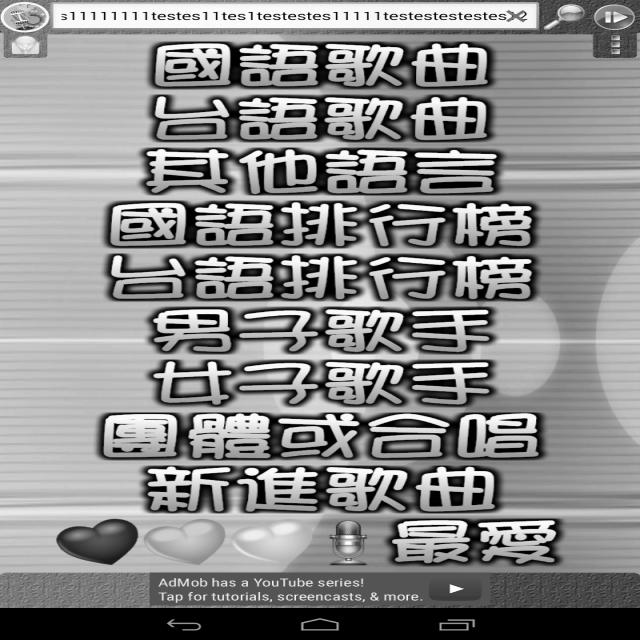ImageView: (59, 516, 378, 568)
TextView: (125, 27, 523, 504)
